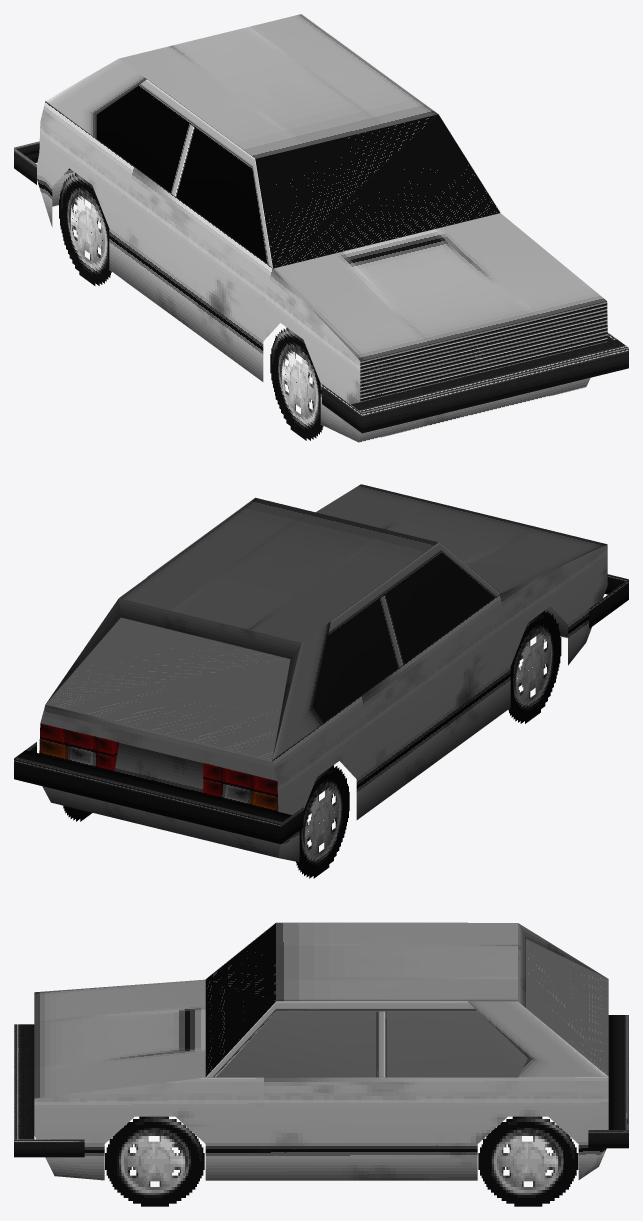
Rendered from PcargolfZ.obj.
The picture shows the model from 3 angles, top to bottom: view 1: azimuth 30°, elevation 25°; view 2: azimuth 150°, elevation 25°; view 3: azimuth 270°, elevation 25°; orthographic projection. The views are drawn at different scales.
Size of the model in its own units: 900 by 710 by 2034.
13 materials, 13 textured.
